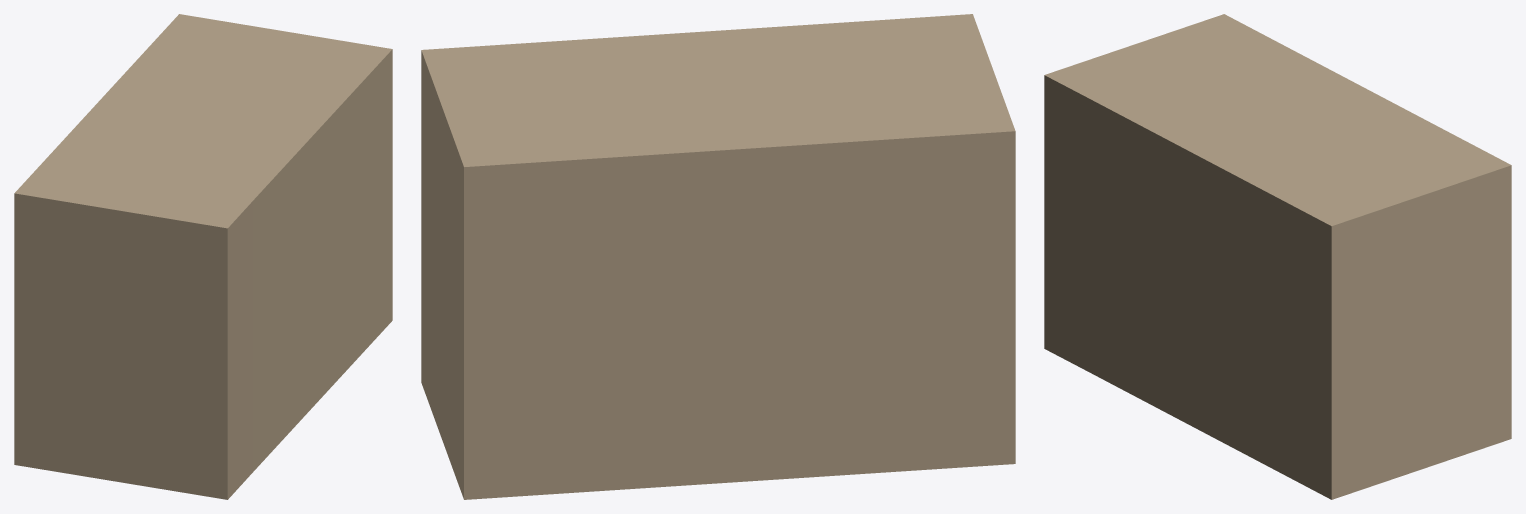
File: bld_158045399.dae
3 views of the same model, side by side, from view 1: azimuth 30°, elevation 25°; view 2: azimuth 150°, elevation 25°; view 3: azimuth 270°, elevation 25° (orthographic). The views are drawn at different scales.
Parts seen in each view (by area): view 1: bld_158045399; view 2: bld_158045399; view 3: bld_158045399.
Part boxes in pixels (x1,y1,x2,y2): bld_158045399: (14, 14, 392, 499); bld_158045399: (421, 14, 1015, 499); bld_158045399: (1044, 14, 1511, 499).
Size of the model in its own units: 13.31 by 12.38 by 8.
